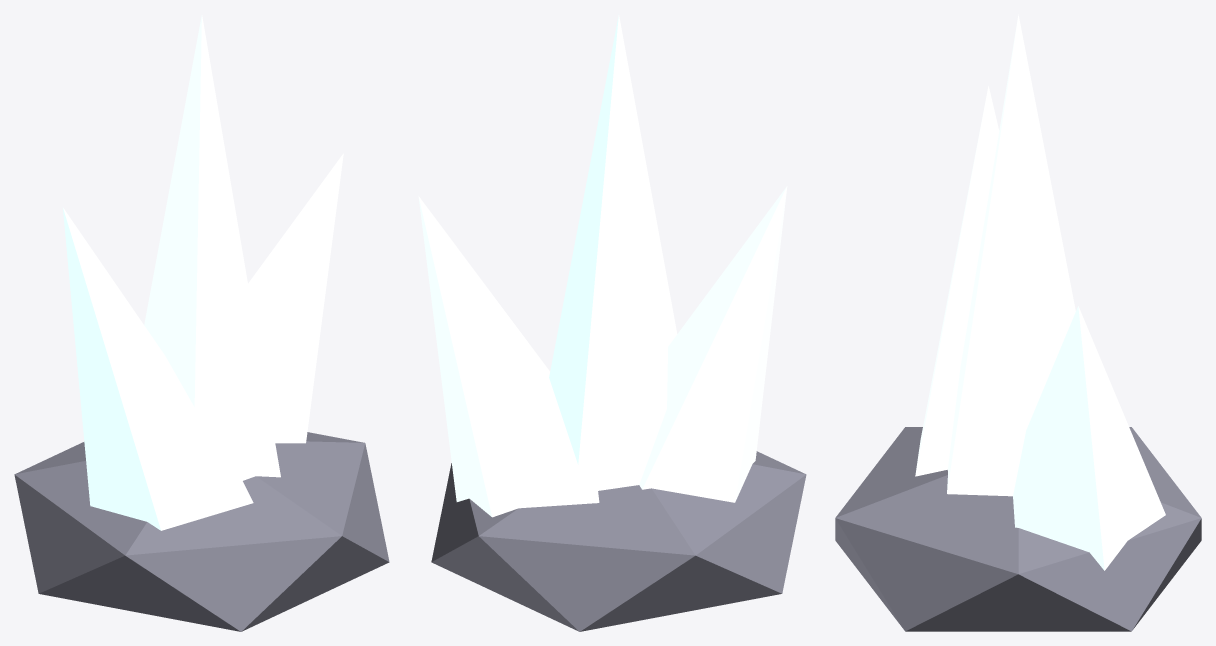
File: SpaceCrystal.fbx
3 renders of one model, left to right at view 1: azimuth 30°, elevation 25°; view 2: azimuth 150°, elevation 25°; view 3: azimuth 270°, elevation 25°, orthographic. The views are drawn at different scales.
Parts seen in each view (by area): view 1: Crystal, Base; view 2: Crystal, Base; view 3: Crystal, Base.
Part boxes in pixels (x1,y1,x2,y2): Crystal: (62, 15, 343, 530); Base: (14, 432, 389, 631); Crystal: (418, 14, 787, 517); Base: (431, 451, 806, 631); Crystal: (915, 14, 1165, 631); Base: (835, 427, 1201, 631).
Bounding box in the file's own units: 1.32 × 2.2 × 1.22.
